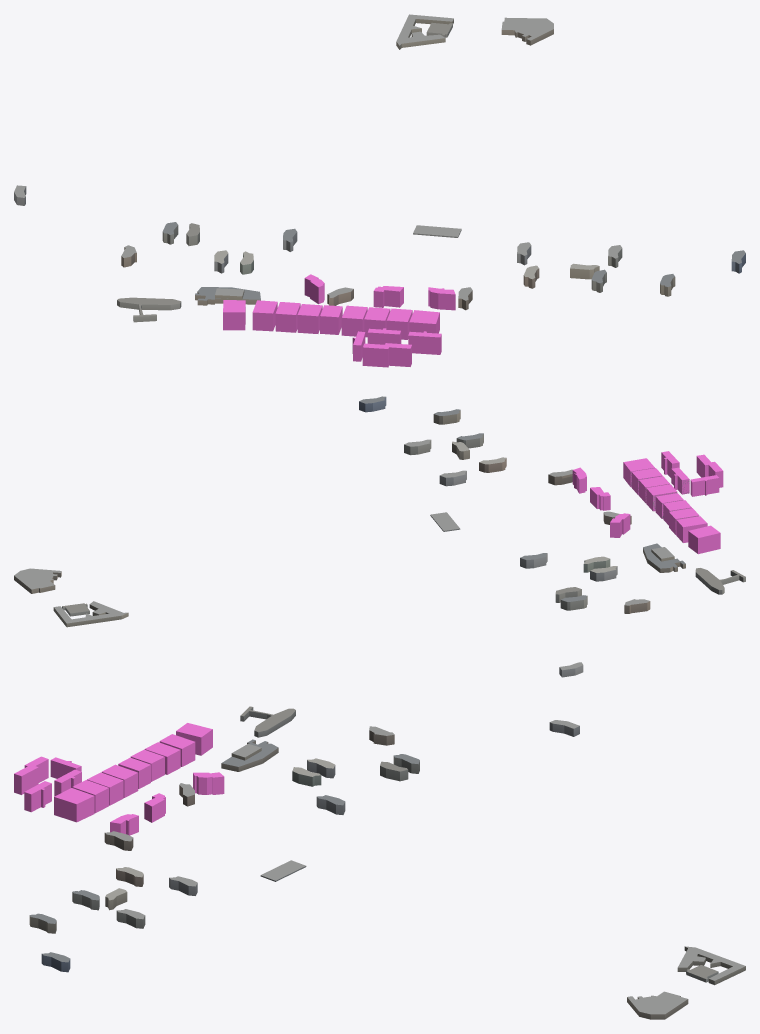
File: bld_6_0.fbx
3 views of the same model, one above another, from view 1: azimuth 30°, elevation 25°; view 2: azimuth 150°, elevation 25°; view 3: azimuth 270°, elevation 25° (orthographic). The views are drawn at different scales.
Parts seen in each view (by area): view 1: bld_6_0_COL, bld_6_0_LOD0; view 2: bld_6_0_LOD0, bld_6_0_COL; view 3: bld_6_0_LOD0, bld_6_0_COL.
Part boxes in pixels (x1,y1,x2,y2): bld_6_0_COL: (223, 274, 455, 367); bld_6_0_LOD0: (14, 14, 745, 322); bld_6_0_LOD0: (14, 396, 745, 677); bld_6_0_COL: (572, 451, 723, 554); bld_6_0_LOD0: (29, 706, 745, 1019); bld_6_0_COL: (14, 723, 224, 835).
Size of what is drawn, in the model's own units: 1578 by 45.14 by 1586.
